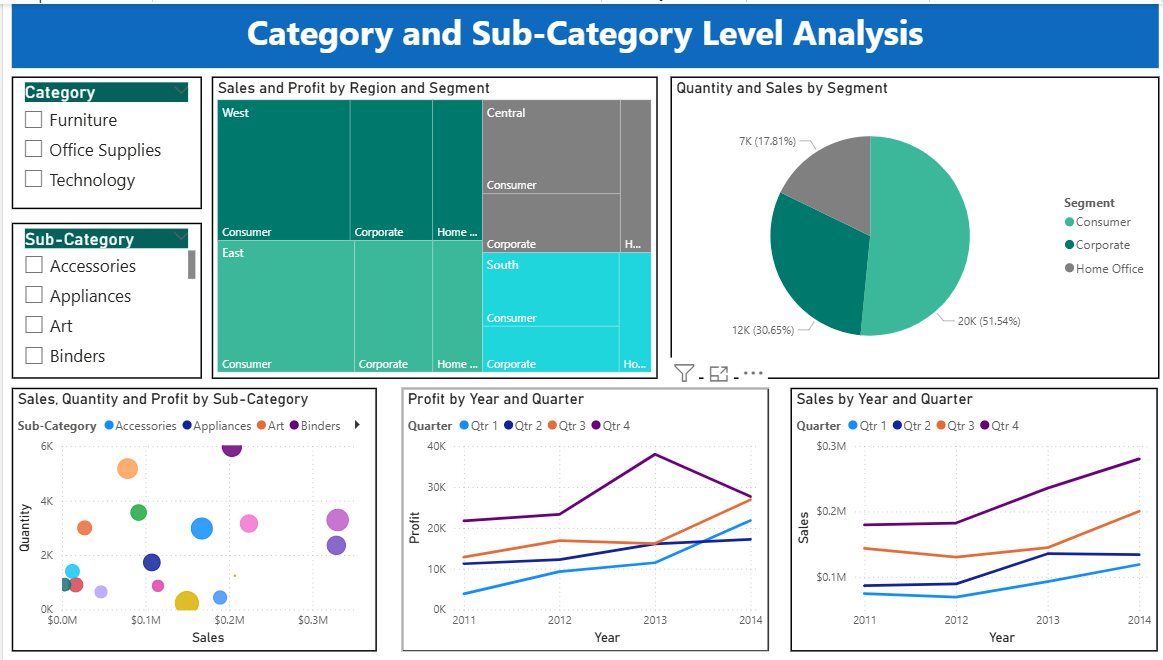

What the dashboard file says about the page in this screenshot:
{"tool":"powerbi","page":{"name":"Category and Sub_Category","canvas":[1280,720],"ordinal":2},"visuals":[{"type":"textbox","box":[10,0,1259,70],"z":0},{"type":"slicer","fields":{"Values":["Superstore_sales_dataset.Category"]},"box":[10,80,208.6,145.7],"z":1000},{"type":"slicer","fields":{"Values":["Superstore_sales_dataset.Sub-Category"]},"box":[10,240,208.6,171.4],"z":2000},{"type":"treemap","fields":{"Group":["Superstore_sales_dataset.Region"],"Values":["Sum(Superstore_sales_dataset.Sales)"],"Details":["Superstore_sales_dataset.Segment"]},"box":[229.2,79.6,489.9,332.1],"z":2001},{"type":"pieChart","fields":{"Category":["Superstore_sales_dataset.Segment"],"Y":["Sum(Superstore_sales_dataset.Quantity)"]},"box":[732.8,79.6,536.5,332.1],"z":2002},{"type":"scatterChart","fields":{"Series":["Superstore_sales_dataset.Sub-Category"],"X":["Sum(Superstore_sales_dataset.Sales)"],"Y":["Sum(Superstore_sales_dataset.Quantity)"],"Size":["Sum(Superstore_sales_dataset.Profit)"]},"box":[9.6,421.3,400.7,289.5],"z":2003},{"type":"lineChart","fields":{"Series":["Superstore_sales_dataset.Quarter"],"Category":["Superstore_sales_dataset.Year"],"Y":["Sum(Superstore_sales_dataset.Profit)"]},"box":[437.7,421.3,403.4,289.5],"z":2004},{"type":"lineChart","fields":{"Series":["Superstore_sales_dataset.Quarter"],"Category":["Superstore_sales_dataset.Year"],"Y":["Sum(Superstore_sales_dataset.Sales)"]},"box":[864.5,421.3,403.4,289.5],"z":2005}]}

Visuals, with their boxes in screenshot pixels (x1, y1, x2, y2), scaled from the page's 1280x720 canvas onto the 1163x660 screenshot:
textbox: detection(9, 0, 1153, 64)
slicer - Superstore_sales_dataset.Category: detection(9, 73, 199, 207)
slicer - Superstore_sales_dataset.Sub-Category: detection(9, 220, 199, 377)
treemap - Superstore_sales_dataset.Region x Sum(Superstore_sales_dataset.Sales): detection(208, 73, 653, 377)
pieChart - Superstore_sales_dataset.Segment x Sum(Superstore_sales_dataset.Quantity): detection(666, 73, 1153, 377)
scatterChart - Superstore_sales_dataset.Sub-Category x Sum(Superstore_sales_dataset.Sales): detection(9, 386, 373, 652)
lineChart - Superstore_sales_dataset.Quarter x Superstore_sales_dataset.Year: detection(398, 386, 764, 652)
lineChart - Superstore_sales_dataset.Quarter x Superstore_sales_dataset.Year: detection(785, 386, 1152, 652)
